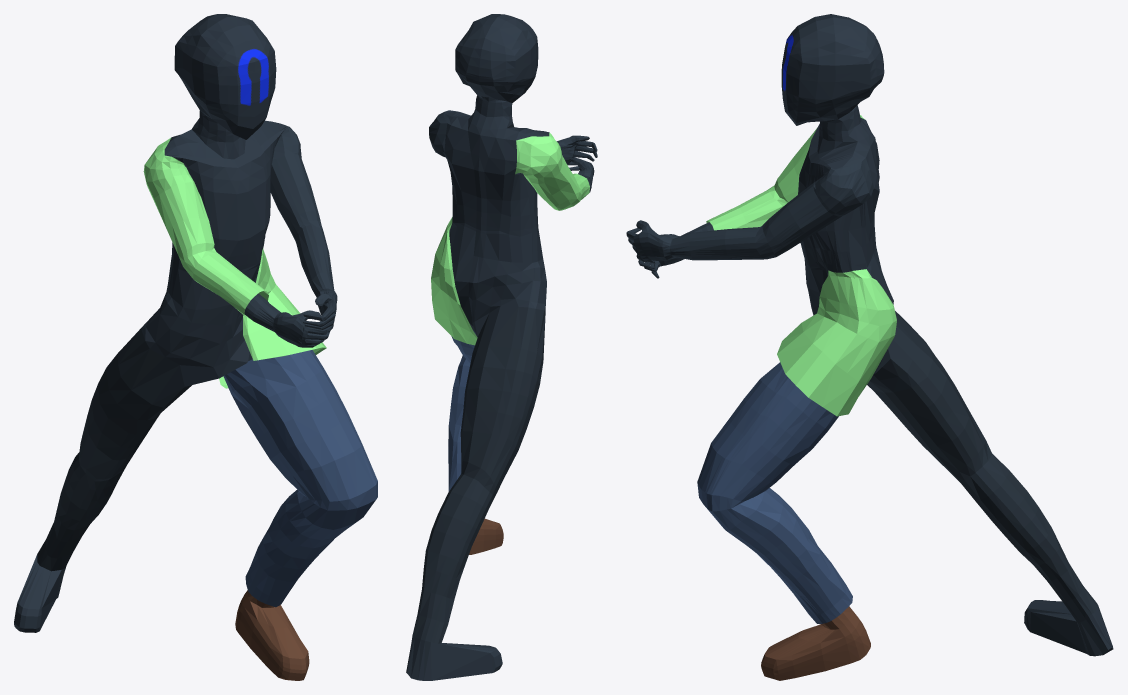
Rendered from Mar_WB_000023.obj.
3 renders of one model, left to right at view 1: azimuth 30°, elevation 25°; view 2: azimuth 150°, elevation 25°; view 3: azimuth 270°, elevation 25°, orthographic. The views are drawn at different scales.
Parts seen in each view (by area): view 1: Cube.000_Cube.001; view 2: Cube.000_Cube.001; view 3: Cube.000_Cube.001.
Part boxes in pixels (x1,y1,x2,y2): Cube.000_Cube.001: [14, 14, 377, 680]; Cube.000_Cube.001: [406, 14, 597, 680]; Cube.000_Cube.001: [626, 14, 1113, 680].
Bounding box in the file's own units: 1.12 × 3.6 × 2.42.
